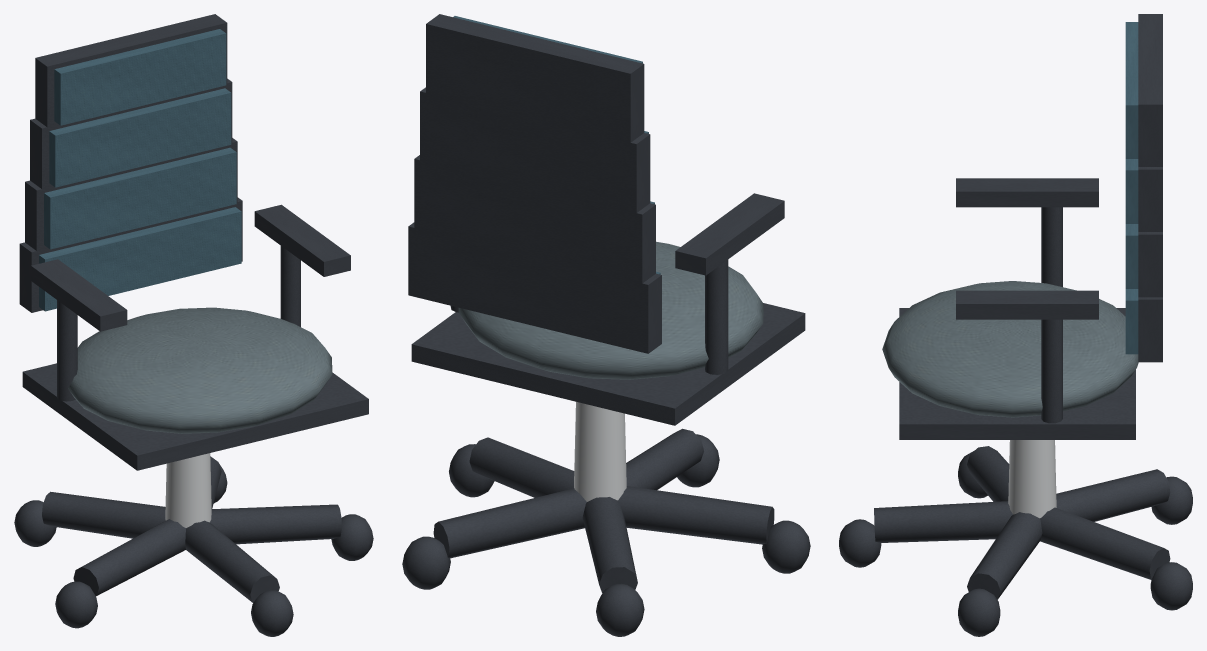
Rendered from chair_ergonomic01.glb.
3 renders of one model, left to right at view 1: azimuth 30°, elevation 25°; view 2: azimuth 150°, elevation 25°; view 3: azimuth 270°, elevation 25°, orthographic. The views are drawn at different scales.
Visible parts, largest first — view 1: back_cushion, seat, base, back_shell, arm, seat_shell, caster, lift; view 2: back_shell, base, seat, seat_shell, caster, arm, lift; view 3: seat, base, arm, back_shell, seat_shell, caster, back_cushion, lift.
Part boxes in pixels (box(x1,y1,x2,y2)): back_cushion: box(39, 29, 241, 311); seat: box(68, 307, 332, 433); base: box(42, 456, 341, 602); back_shell: box(19, 14, 242, 312); arm: box(31, 204, 350, 401); seat_shell: box(22, 363, 368, 470); caster: box(14, 463, 373, 636); lift: box(165, 453, 211, 527); back_shell: box(408, 14, 661, 353); base: box(433, 428, 774, 592); seat: box(458, 241, 763, 379); seat_shell: box(411, 303, 805, 425); caster: box(402, 434, 810, 636); arm: box(450, 193, 784, 374); lift: box(574, 401, 626, 501); seat: box(882, 281, 1138, 417); base: box(874, 446, 1170, 599); arm: box(956, 178, 1098, 423); back_shell: box(1138, 14, 1162, 362); seat_shell: box(899, 308, 1135, 439); caster: box(839, 451, 1192, 636); back_cushion: box(1125, 22, 1138, 354); lift: box(1008, 440, 1056, 518).
Bounding box in the file's own units: 0.7557 × 1.13 × 0.7188.
4 materials, 3 textured.
